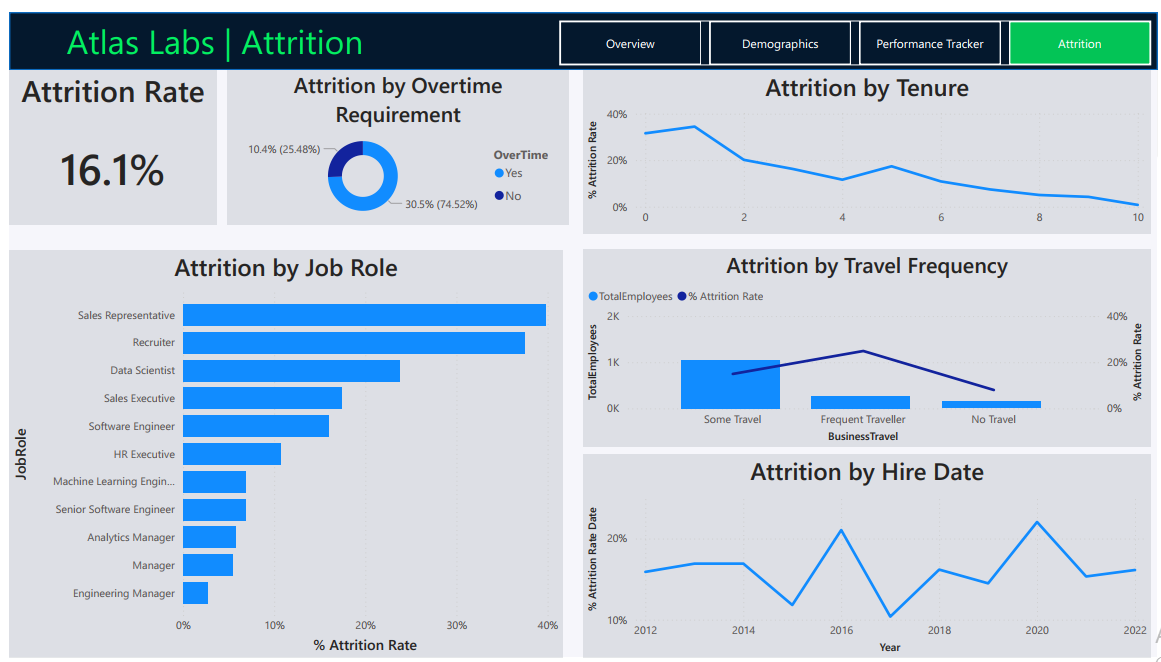

The page's visual inventory and layout, read from the dashboard file:
{"tool":"powerbi","page":{"name":"Attrition","canvas":[1280,720],"ordinal":3},"visuals":[{"type":"card","title":"Attrition Rate","fields":{"Values":["_Measures.% Attrition Rate"]},"box":[0,63.8,230.8,173.1],"z":0},{"type":"clusteredBarChart","title":"Attrition by Job Role","fields":{"Category":["Dim_Employee.Department","Dim_Employee.JobRole"],"Y":["_Measures.% Attrition Rate"]},"box":[0,265.1,617.4,455.4],"z":1000},{"type":"lineChart","title":"Attrition by Hire Date","fields":{"Y":["_Measures.% Attrition Rate Date"],"Category":["DimDate.Date.Variation.Date Hierarchy.Year"]},"box":[639.5,493.4,633.4,227.1],"z":2000},{"type":"lineClusteredColumnComboChart","title":"Attrition by Travel Frequency","fields":{"Category":["Dim_Employee.BusinessTravel"],"Y":["_Measures.TotalEmployees"],"Y2":["_Measures.% Attrition Rate"]},"box":[639.5,265.1,633.4,219.7],"z":3000},{"type":"donutChart","title":"Attrition by Overtime Requirement","fields":{"Y":["_Measures.% Attrition Rate"],"Category":["Dim_Employee.OverTime"]},"box":[243,63.8,380.5,173.1],"z":4000},{"type":"lineChart","title":"Attrition by Tenure","fields":{"Category":["Dim_Employee.YearsAtCompany"],"Y":["_Measures.% Attrition Rate"]},"box":[639.5,63.8,633.4,182.9],"z":5000},{"type":"shape","box":[0,0,1280,64],"z":6000},{"type":"textbox","box":[59.1,1.2,564.6,62.7],"z":7000},{"type":"pageNavigator","box":[612.5,8.6,660.4,50.3],"z":8000}]}

Visuals, with their boxes in screenshot pixels (x1, y1, x2, y2), scaled from the page's 1280x720 canvas onto the 1161x662 screenshot:
"Attrition Rate" card: rect(0, 59, 209, 218)
"Attrition by Job Role" clusteredBarChart: rect(0, 244, 560, 661)
"Attrition by Hire Date" lineChart: rect(580, 454, 1155, 661)
"Attrition by Travel Frequency" lineClusteredColumnComboChart: rect(580, 244, 1155, 446)
"Attrition by Overtime Requirement" donutChart: rect(220, 59, 566, 218)
"Attrition by Tenure" lineChart: rect(580, 59, 1155, 227)
shape: rect(0, 0, 1160, 59)
textbox: rect(54, 1, 566, 59)
pageNavigator: rect(556, 8, 1155, 54)
